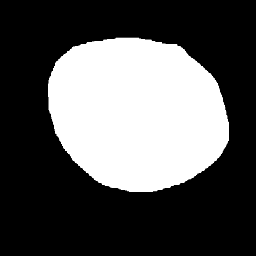mass: (47, 42, 228, 186)
